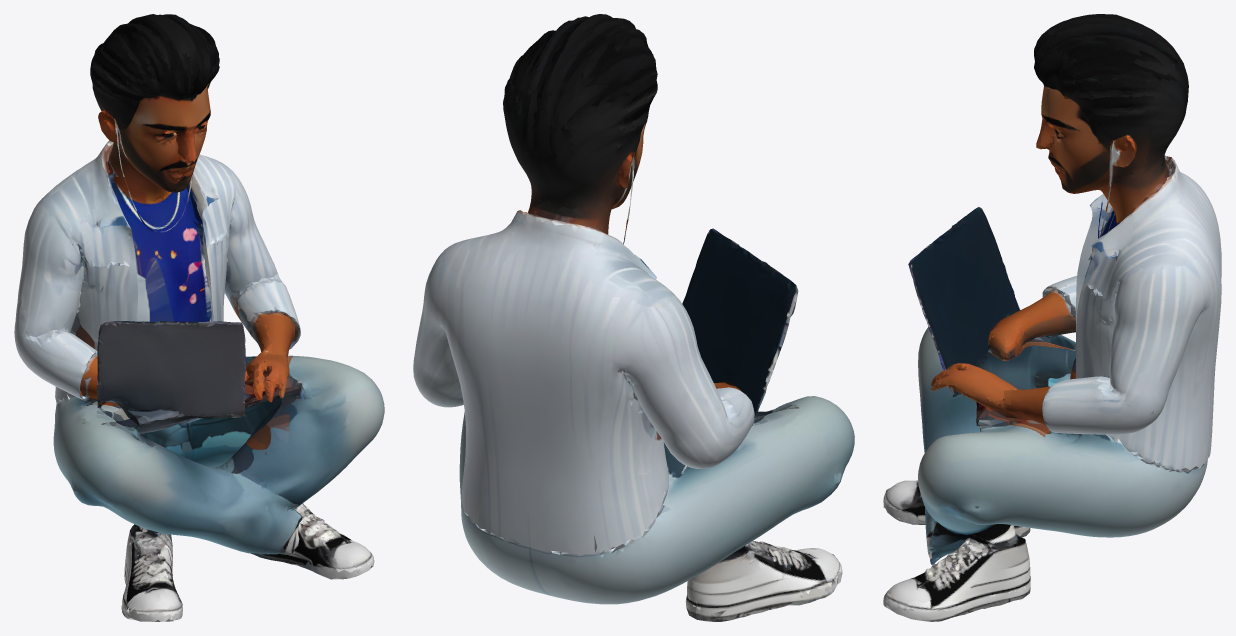
Rendered from pose_work.glb.
The picture shows the model from 3 angles, left to right: view 1: azimuth 30°, elevation 25°; view 2: azimuth 150°, elevation 25°; view 3: azimuth 270°, elevation 25°; orthographic projection. The views are drawn at different scales.
Parts seen in each view (by area): view 1: pose_work; view 2: pose_work; view 3: pose_work.
Boxes of the visible parts, <box> form: pose_work: <box>14,14,384,621</box>; pose_work: <box>413,14,854,621</box>; pose_work: <box>883,14,1221,621</box>.
Bounding box in the file's own units: 1.17 × 1.9 × 1.07.
1 material, 1 textured.
